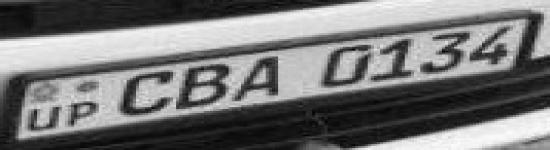0: (322, 42, 373, 88)
1: (368, 39, 418, 83)
3: (418, 29, 472, 79)
4: (471, 23, 518, 69)
A: (230, 54, 286, 105)
B: (176, 62, 234, 109)
C: (117, 67, 175, 117)
P: (66, 100, 102, 128)
U: (23, 104, 61, 133)
